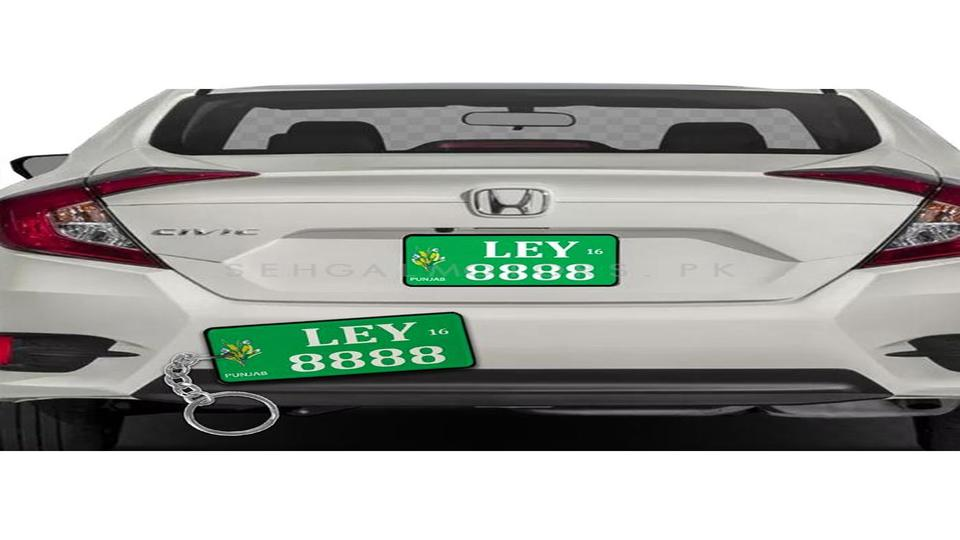NumberPlate: (201, 330, 473, 386), (398, 232, 632, 294)
